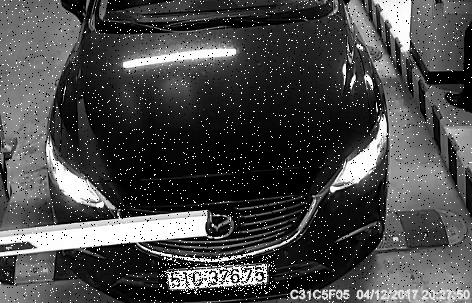License-plate: (160, 256, 278, 295)
